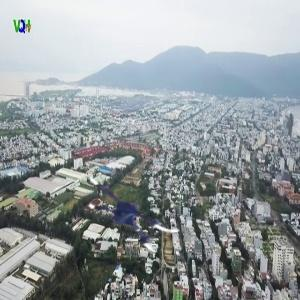drone: (84, 156, 188, 260)
